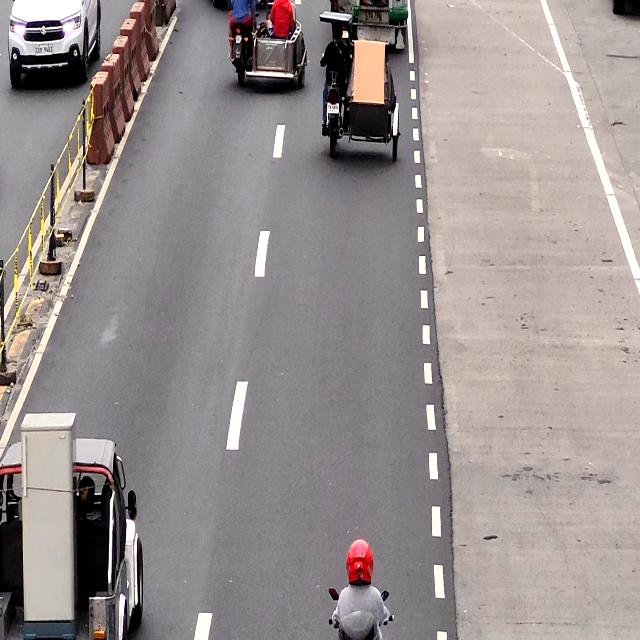Motorcycle: (331, 539, 386, 640)
Tricycle: (322, 14, 396, 149), (231, 0, 307, 84)
Truck: (0, 433, 145, 640)
